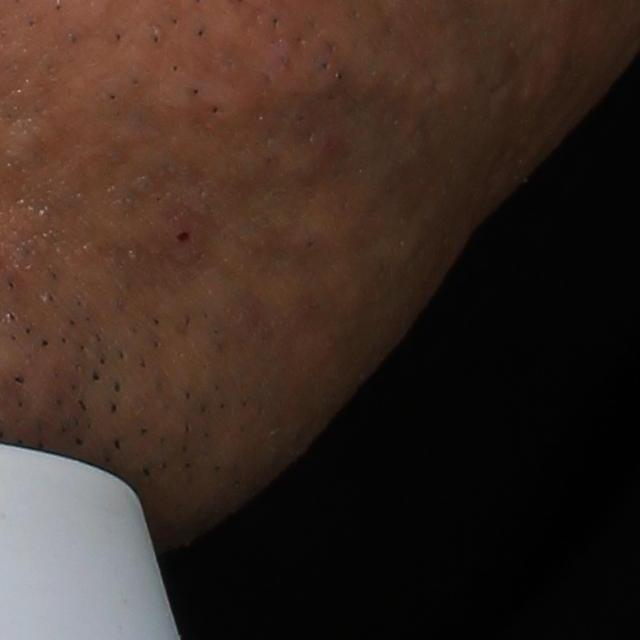hypertrophic_scar: (144, 332, 225, 407), (254, 264, 324, 330), (177, 64, 248, 118), (0, 117, 56, 161)
